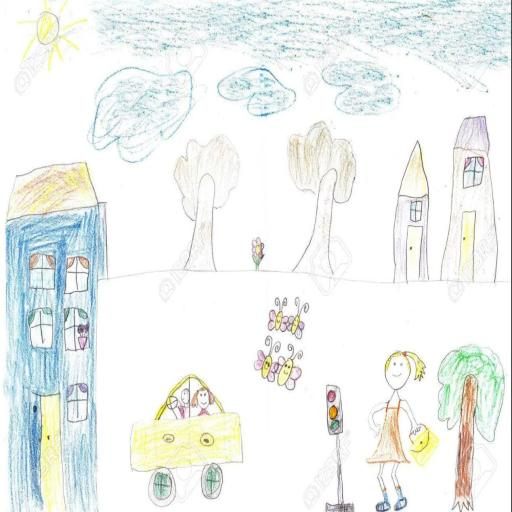person: (363, 346, 428, 512), (192, 383, 216, 420), (167, 386, 188, 420)
